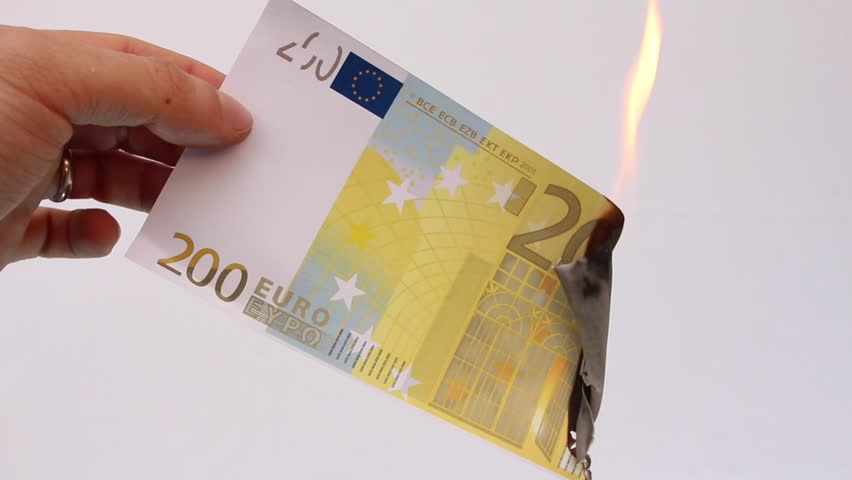billete: (122, 1, 628, 479)
